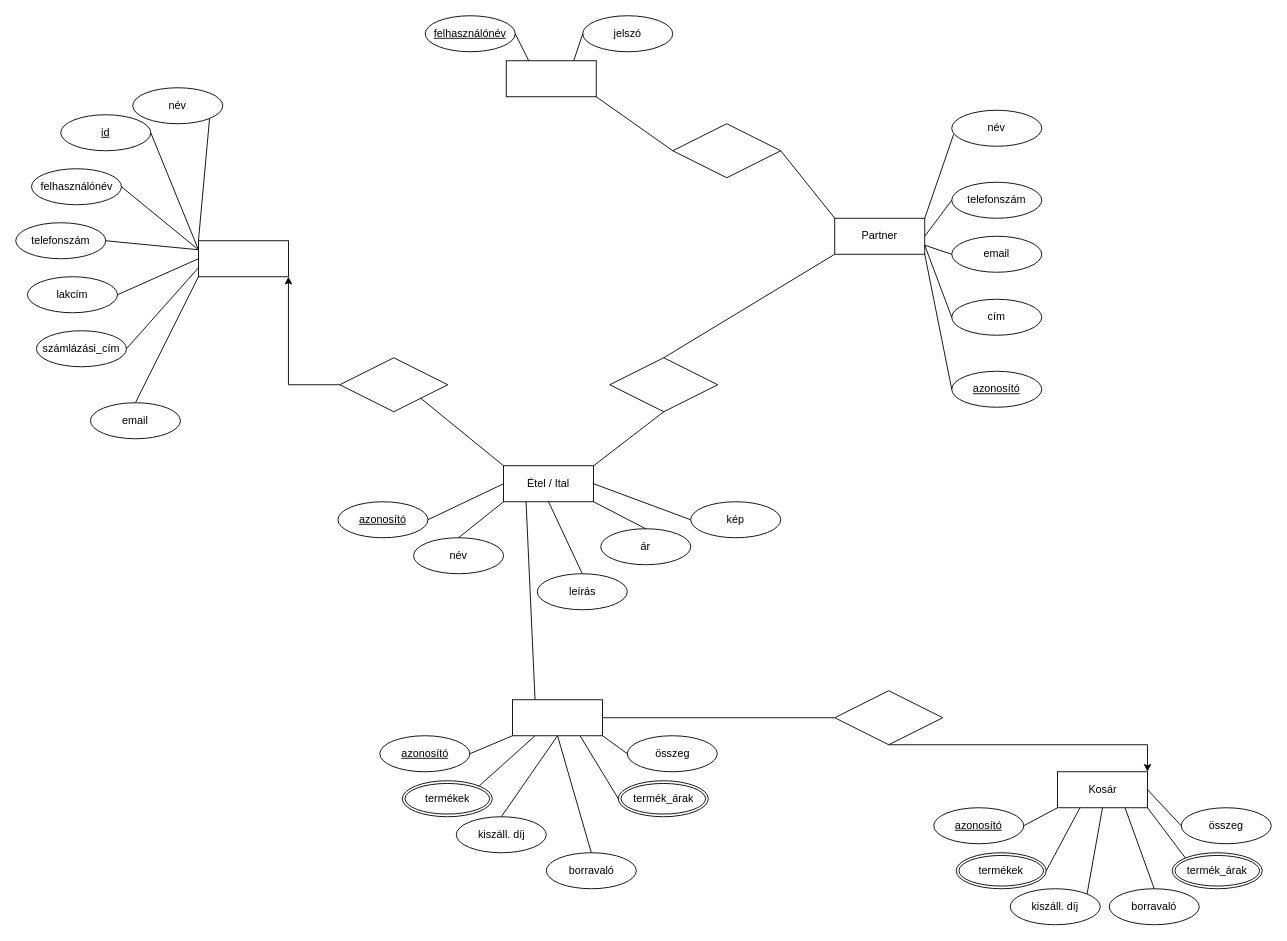
The diagram is 1287 pixels wide and 941 high, and some of its shapes have lost their labels. The shapes that lost their labels are listed below. From the top down, each one's centre as x and y in pixels, then its label:
point (550, 78): Admin
point (726, 150): felvesz
point (243, 258): Vásárló
point (393, 384): rendel
point (663, 384): meghirdet
point (557, 717): rendelés
point (888, 717): beletesz
